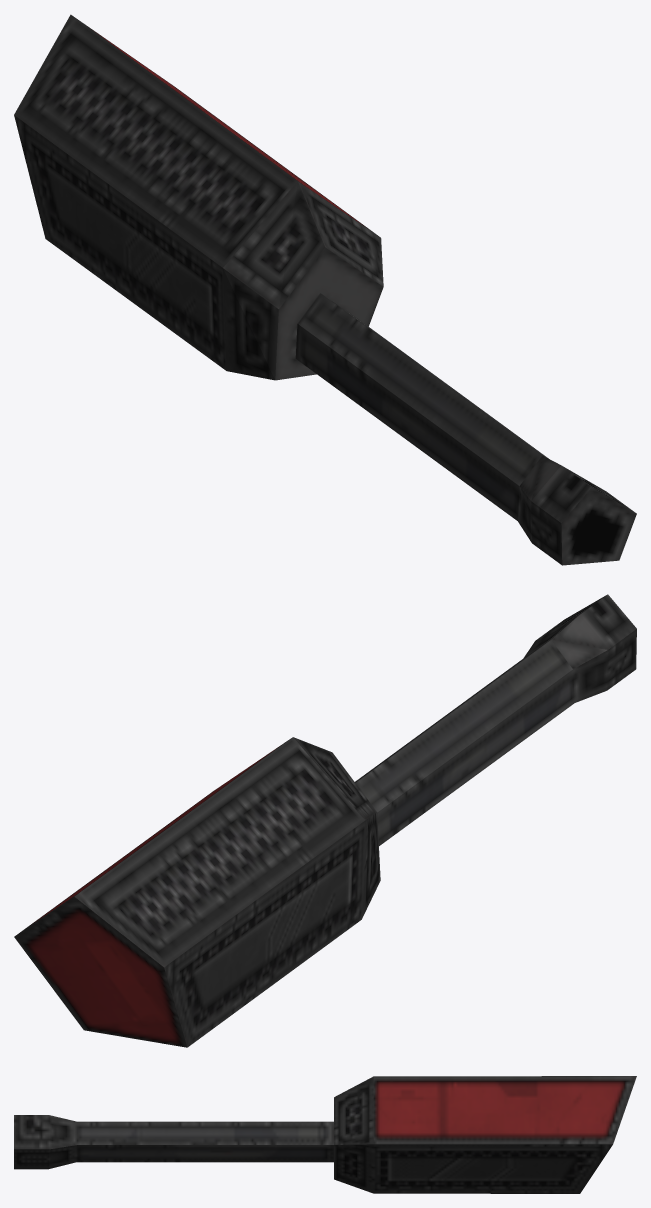
Rendered from BFP_SmallWingCannon01_Right.FBX.
3 views of the same model, one above another, from view 1: azimuth 30°, elevation 25°; view 2: azimuth 150°, elevation 25°; view 3: azimuth 270°, elevation 25° (orthographic). The views are drawn at different scales.
Parts seen in each view (by area): view 1: BFP_SmallWingCannon01_Right; view 2: BFP_SmallWingCannon01_Right; view 3: BFP_SmallWingCannon01_Right.
Part boxes in pixels (left/top/right/bottom): BFP_SmallWingCannon01_Right: left=14, top=14, right=636, bottom=565; BFP_SmallWingCannon01_Right: left=14, top=594, right=636, bottom=1047; BFP_SmallWingCannon01_Right: left=14, top=1076, right=636, bottom=1193.
Size of the model in its own units: 34.06 by 37.94 by 200.
1 material, 1 textured.
